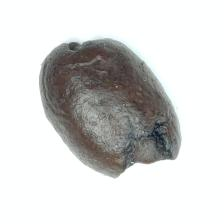NG: (107, 114, 182, 178), (64, 38, 116, 58)
